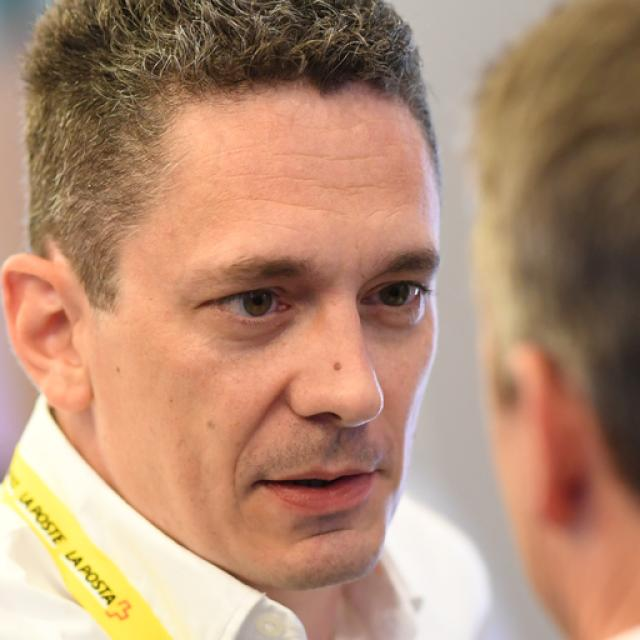Acne: (325, 355, 344, 375)
Wrinkle: (238, 194, 351, 221), (267, 146, 394, 161), (249, 216, 297, 236), (266, 172, 324, 185)
